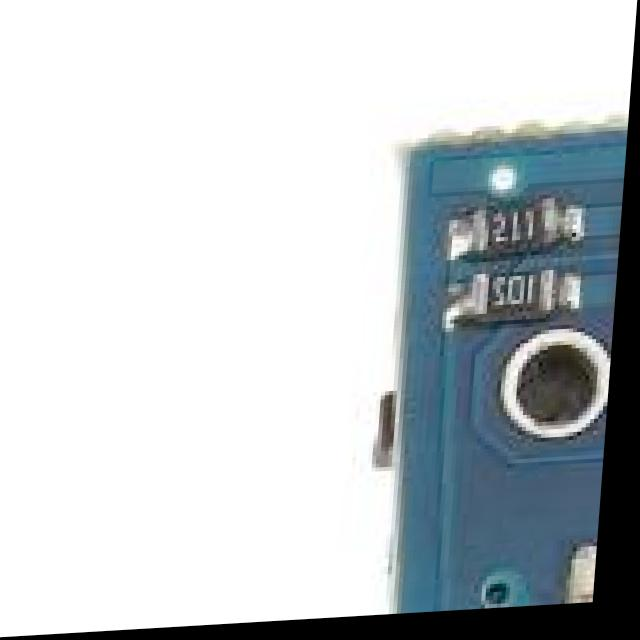LED: (615, 250, 624, 334)
resistor: (459, 260, 579, 342), (443, 201, 567, 269)
switch: (571, 518, 608, 612)
